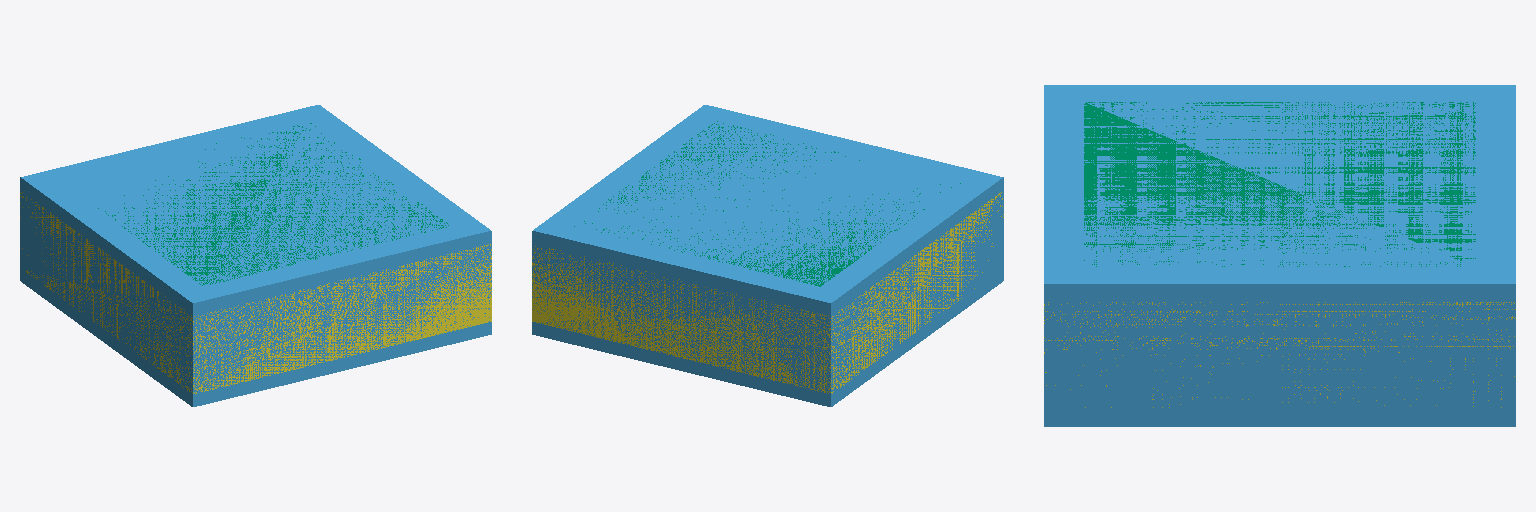
The robot description file, URDF, robot "carton_gantry":
<?xml version="1.0"?>
<!-- Minimal 3-axis gantry for the carton-sorting demo: prismatic x/y/z joints
     moving a magnet plate. Links are visual-only (no collision geometry) so
     the gantry never interferes with scene physics; pick/place uses the
     kinematic weld attach (runtime.grasp_attach: weld, attach_link: magnet_link). -->
<robot name="carton_gantry">
  <link name="base_link">
    <inertial>
      <mass value="10.0"/>
      <origin xyz="0 0 0"/>
      <inertia ixx="0.1" iyy="0.1" izz="0.1" ixy="0" ixz="0" iyz="0"/>
    </inertial>
  </link>

  <link name="carriage_x">
    <inertial>
      <mass value="1.0"/>
      <origin xyz="0 0 0"/>
      <inertia ixx="0.01" iyy="0.01" izz="0.01" ixy="0" ixz="0" iyz="0"/>
    </inertial>
    <visual>
      <geometry><box size="0.06 0.06 0.02"/></geometry>
    </visual>
  </link>

  <link name="carriage_y">
    <inertial>
      <mass value="1.0"/>
      <origin xyz="0 0 0"/>
      <inertia ixx="0.01" iyy="0.01" izz="0.01" ixy="0" ixz="0" iyz="0"/>
    </inertial>
    <visual>
      <geometry><box size="0.05 0.05 0.02"/></geometry>
    </visual>
  </link>

  <link name="magnet_link">
    <inertial>
      <mass value="0.5"/>
      <origin xyz="0 0 0"/>
      <inertia ixx="0.005" iyy="0.005" izz="0.005" ixy="0" ixz="0" iyz="0"/>
    </inertial>
    <visual>
      <geometry><box size="0.06 0.06 0.015"/></geometry>
    </visual>
  </link>

  <joint name="gantry_x" type="prismatic">
    <parent link="base_link"/>
    <child link="carriage_x"/>
    <origin xyz="0 0 1.1" rpy="0 0 0"/>
    <axis xyz="1 0 0"/>
    <limit lower="-1.0" upper="1.0" effort="200" velocity="1.0"/>
  </joint>

  <joint name="gantry_y" type="prismatic">
    <parent link="carriage_x"/>
    <child link="carriage_y"/>
    <origin xyz="0 0 0" rpy="0 0 0"/>
    <axis xyz="0 1 0"/>
    <limit lower="-1.0" upper="1.0" effort="200" velocity="1.0"/>
  </joint>

  <joint name="gantry_z" type="prismatic">
    <parent link="carriage_y"/>
    <child link="magnet_link"/>
    <origin xyz="0 0 0" rpy="0 0 0"/>
    <axis xyz="0 0 1"/>
    <limit lower="-0.6" upper="0.2" effort="200" velocity="1.0"/>
  </joint>
</robot>

--- Facts derived from the render (not from the file) ---
Views: 3 orthographic renders of the robot side by side, from view 1: azimuth 30°, elevation 25°; view 2: azimuth 150°, elevation 25°; view 3: azimuth 270°, elevation 25°.
Model carton_gantry with 4 links and 3 joints (3 prismatic), rooted at base_link, posed all joints at 0.
Visible links, largest first — view 1: carriage_x, magnet_link, carriage_y; view 2: carriage_x, magnet_link, carriage_y; view 3: carriage_x, carriage_y, magnet_link.
Link boxes in pixels (x1,y1,x2,y2): carriage_x: (20,105,491,406); magnet_link: (20,192,491,393); carriage_y: (98,123,448,285); carriage_x: (532,105,1003,406); magnet_link: (532,192,1003,393); carriage_y: (574,121,960,286); carriage_x: (1044,85,1515,426); carriage_y: (1084,102,1475,266); magnet_link: (1044,302,1515,407).
Size in the robot's own frame: 0.06 by 0.06 by 0.02 metres.
Geometry: primitives only (box / cylinder / sphere), no mesh files.
